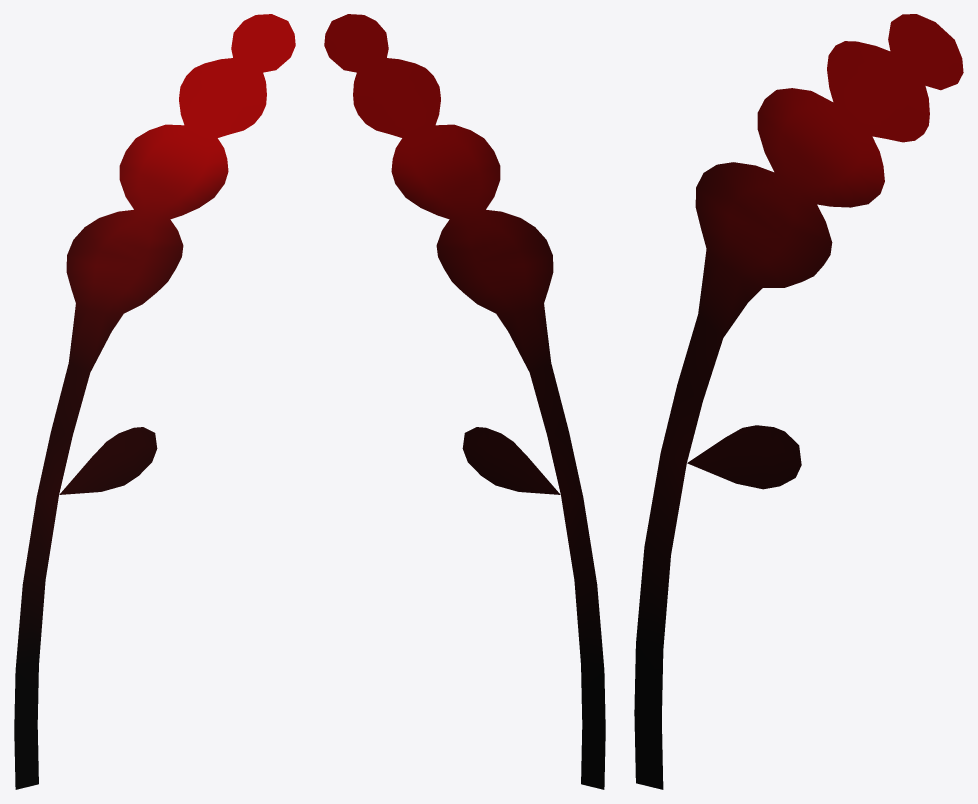
Rendered from SM_Lavender_08_LOD0.fbx.
The picture shows the model from 3 angles, left to right: view 1: azimuth 30°, elevation 25°; view 2: azimuth 150°, elevation 25°; view 3: azimuth 330°, elevation 25°; orthographic projection. The views are drawn at different scales.
Visible parts, largest first — view 1: SM_Lavender_08_LOD0; view 2: SM_Lavender_08_LOD0; view 3: SM_Lavender_08_LOD0.
Part boxes in pixels (x1,y1,x2,y2): SM_Lavender_08_LOD0: (14,14,295,789); SM_Lavender_08_LOD0: (324,14,605,789); SM_Lavender_08_LOD0: (634,14,963,789).
Bounding box in the file's own units: 104 × 4.01e-05 × 252.
